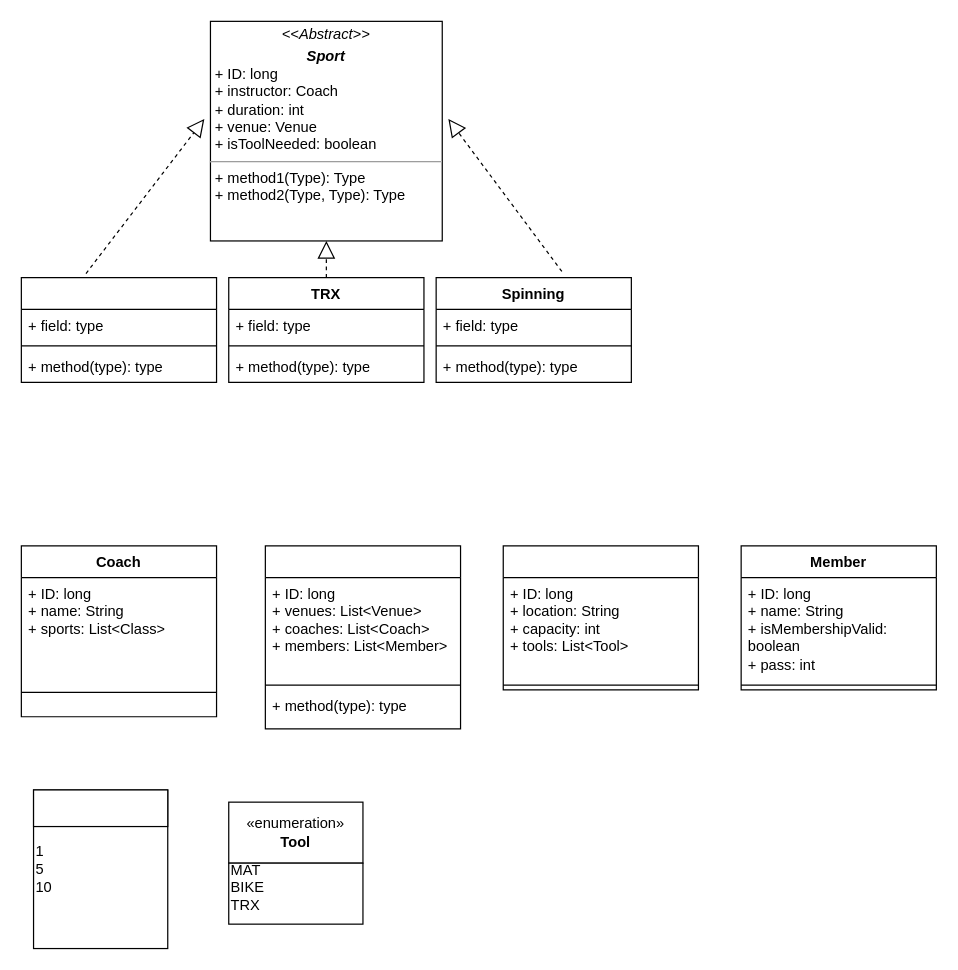
Image size: 958x970. Some labels were removed from this diagram. Here are the shapes that lost their labels. From the top down, the box of each, then its label:
(20, 276, 217, 382): Yoga
(264, 545, 461, 729): Gym
(502, 545, 698, 690): Room
(32, 789, 168, 827): «enumeration» PassType
